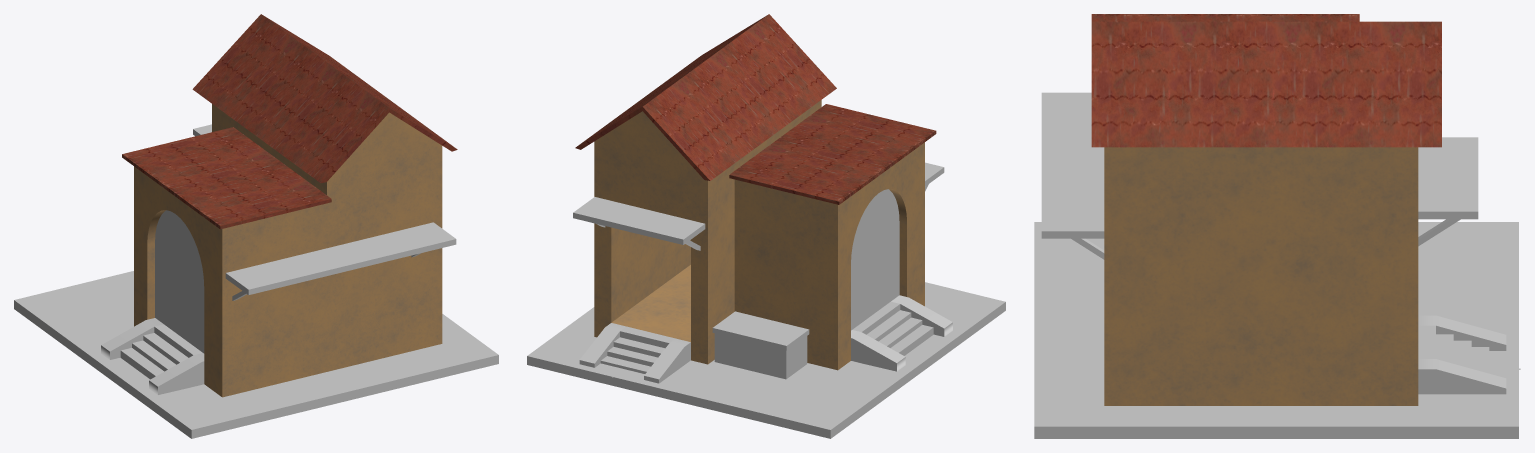
The model's file is Warehouse.fbx.
The picture shows the model from 3 angles, left to right: view 1: azimuth 30°, elevation 25°; view 2: azimuth 150°, elevation 25°; view 3: azimuth 270°, elevation 25°; orthographic projection. The views are drawn at different scales.
Parts seen in each view (by area): view 1: Warehouse; view 2: Warehouse; view 3: Warehouse.
Boxes of the visible parts, x1,y1,x2,y2 form: Warehouse: [14, 14, 498, 438]; Warehouse: [527, 14, 1005, 438]; Warehouse: [1034, 14, 1518, 438].
Size of the model in its own units: 201 by 164 by 202.
